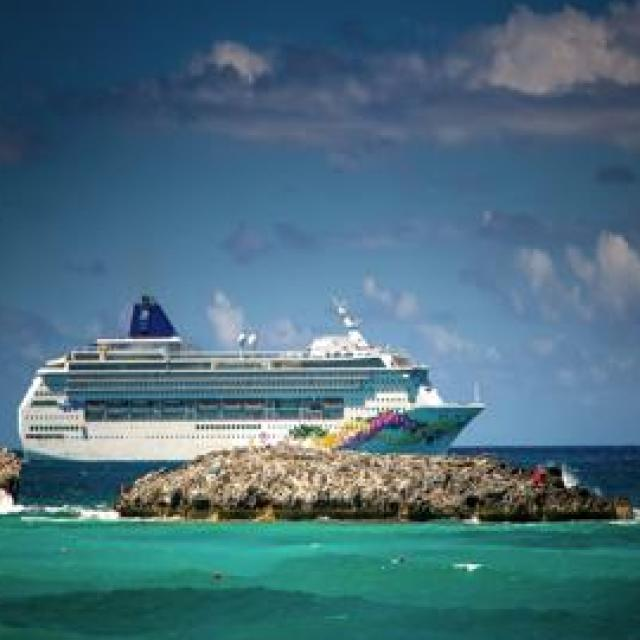passenger ship: (18, 310, 475, 490)
